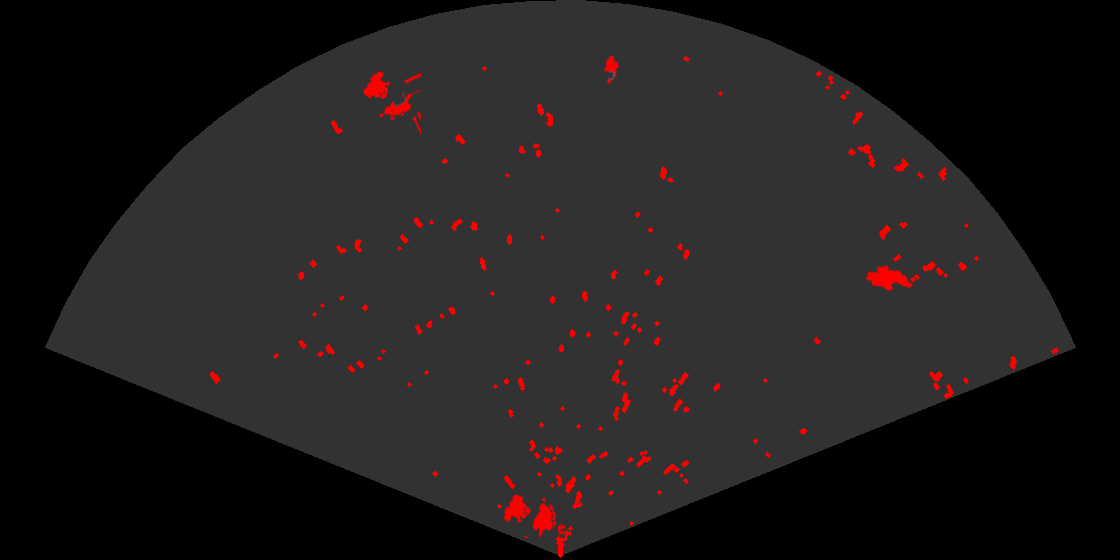AUV: (864, 264, 915, 293), (602, 53, 621, 86)
cage: (361, 69, 421, 136), (502, 493, 565, 538)
